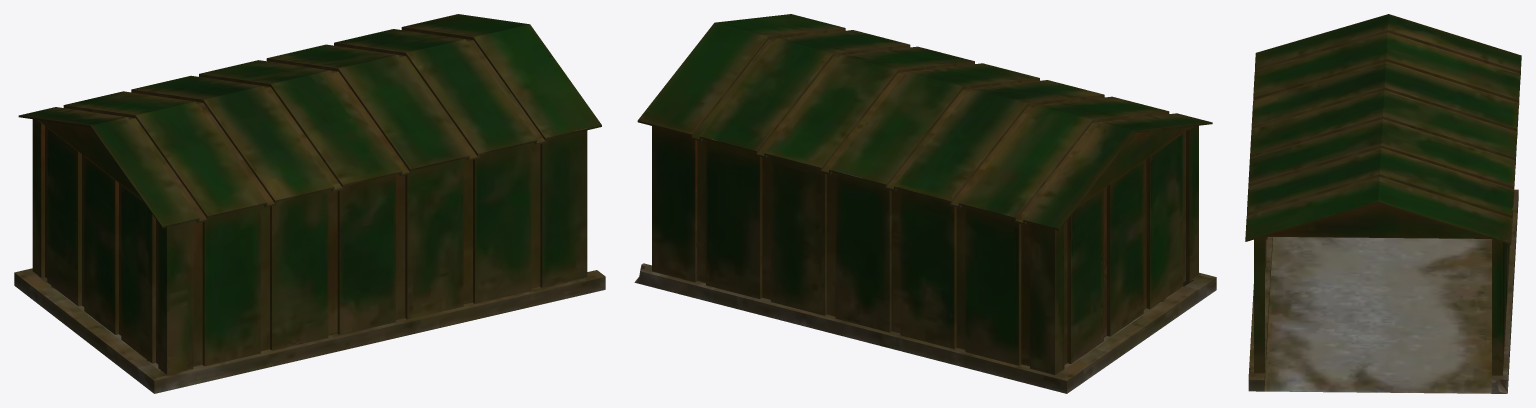
File: garage_b.glb
3 renders of one model, left to right at view 1: azimuth 30°, elevation 25°; view 2: azimuth 150°, elevation 25°; view 3: azimuth 270°, elevation 25°, orthographic. The views are drawn at different scales.
Visible parts, largest first — view 1: garage_1; view 2: garage_1; view 3: garage_1.
Boxes of the visible parts, x1=… form: garage_1: x1=14, y1=14, x2=605, y2=393; garage_1: x1=634, y1=14, x2=1216, y2=393; garage_1: x1=1245, y1=14, x2=1521, y2=393.
Size of the model in its own units: 6.09 by 2.74 by 3.64.
1 material, 1 textured.
